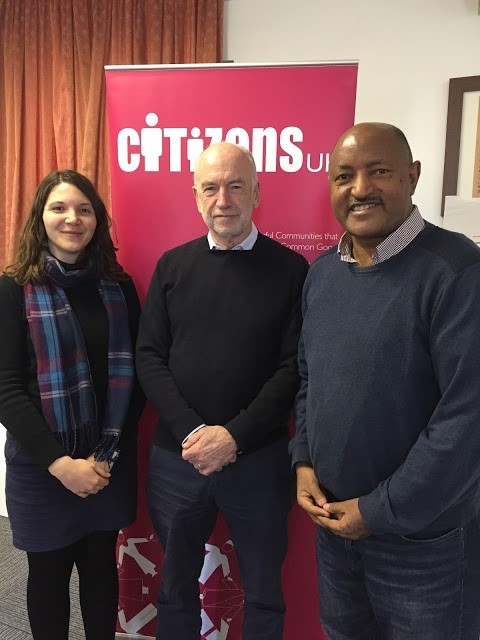face_no_mask: (330, 121, 422, 235), (193, 141, 261, 238), (30, 170, 105, 252)
